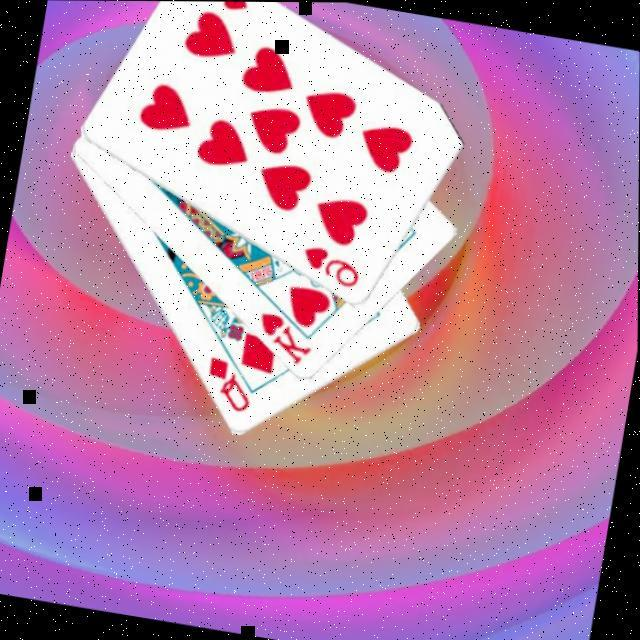9H: (294, 240, 366, 292), (182, 2, 252, 15)
KH: (248, 306, 318, 369)
QD: (197, 352, 258, 416)
